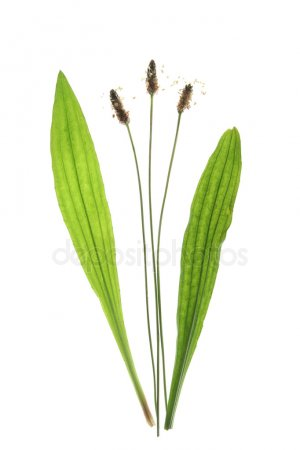buckhorn plantain: (46, 56, 231, 409)
